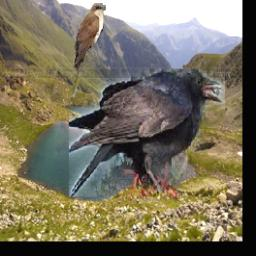Crow: (68, 70, 224, 198)
Cuckoo: (72, 3, 106, 97)
